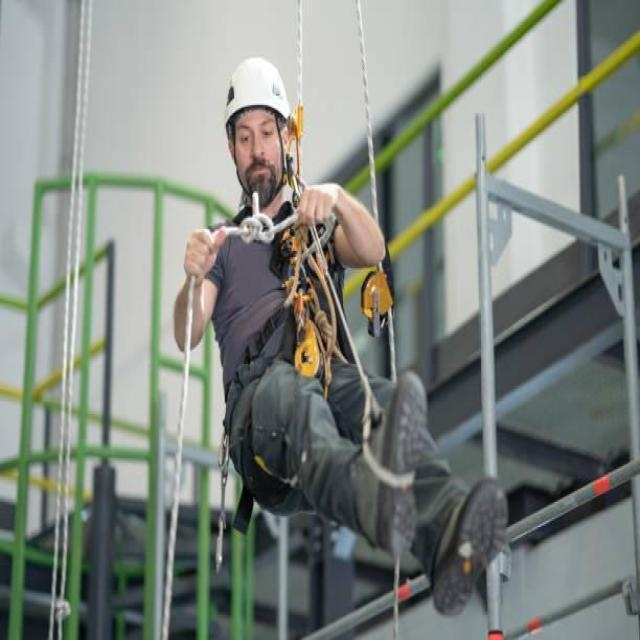Arnes_seguridad: (217, 197, 358, 519)
